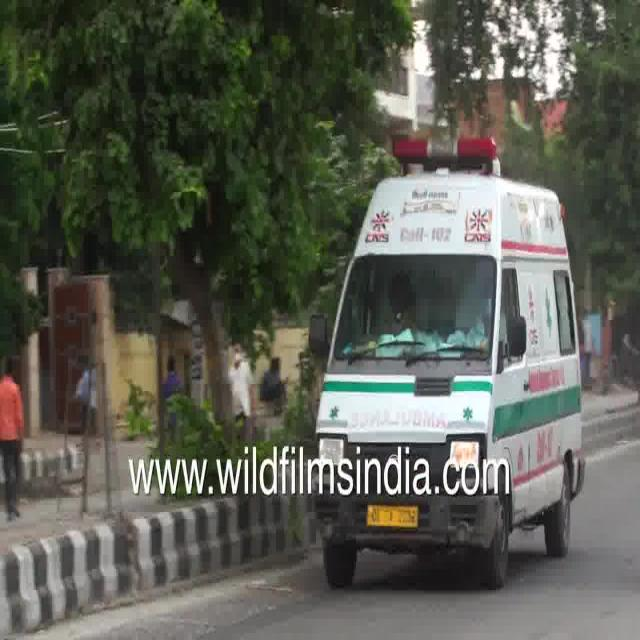ambulance: (311, 128, 600, 452), (312, 512, 598, 588)
